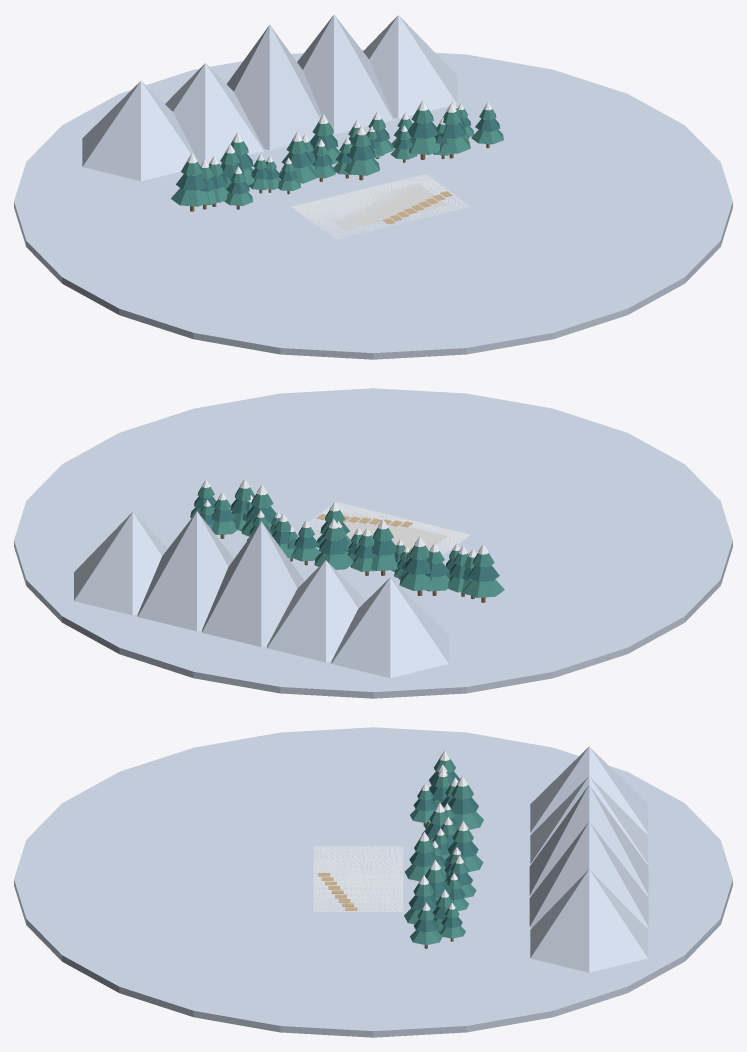
The model's file is village_yard.glb.
3 views of the same model, one above another, from view 1: azimuth 30°, elevation 25°; view 2: azimuth 150°, elevation 25°; view 3: azimuth 270°, elevation 25° (orthographic).
Parts seen in each view (by area): view 1: ground, mountain0, mountain2, mountain3, mountain4, mountain1, yard, nav_floor; view 2: ground, mountain0, mountain2, mountain3, mountain4, mountain1, yard, nav_floor, back0_pine0; view 3: ground, mountain4, yard, mountain3, mountain2, mountain0, mountain1.
Part boxes in pixels (x1,y1,x2,y2): ground: (14,50,732,359); mountain0: (82,81,199,181); mountain2: (226,25,321,150); mountain3: (297,14,393,134); mountain4: (363,15,457,118); mountain1: (165,63,264,164); yard: (291,174,470,239); nav_floor: (332,183,447,230); ground: (14,388,732,698); mountain0: (331,577,448,677); mountain2: (202,521,304,647); mountain3: (137,511,233,631); mountain4: (74,512,167,615); mountain1: (267,560,365,662); yard: (296,502,469,555); nav_floor: (314,511,447,550); back0_pine0: (463,579,504,597); ground: (14,727,732,1037); mountain4: (530,869,647,972); yard: (313,846,403,911); mountain3: (529,821,648,927); mountain2: (529,785,648,895); mountain0: (530,746,647,833); mountain1: (530,776,647,864).
Size of the model in its own units: 60 by 9.51 by 60.
